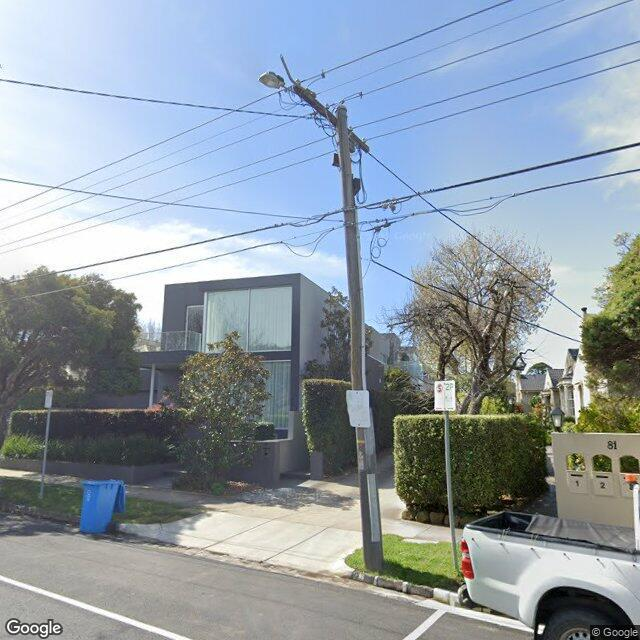crossarm: (293, 84, 369, 152)
streetlight: (259, 71, 297, 94)
timber-pole: (336, 105, 384, 571)
